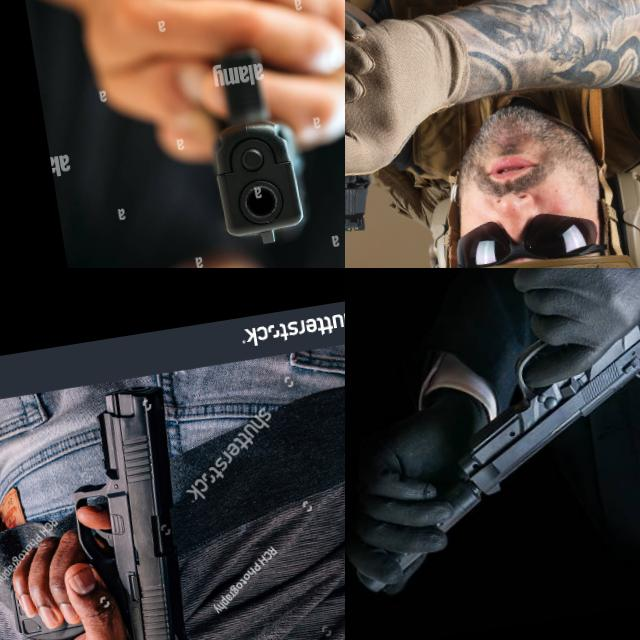handgun: (415, 268, 640, 503), (50, 379, 207, 640), (188, 38, 316, 258), (345, 106, 457, 263)
